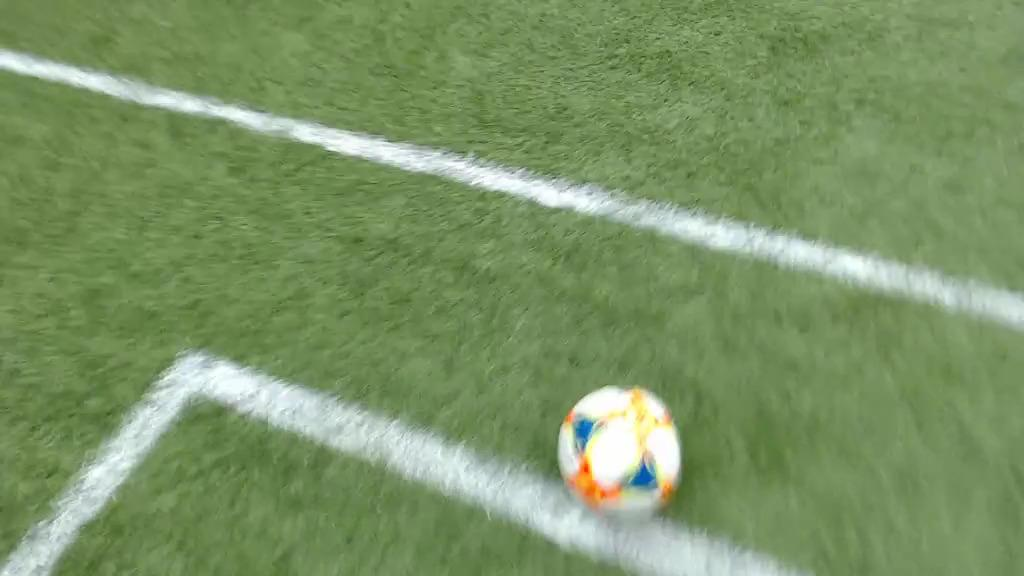ball: (558, 387, 678, 522)
